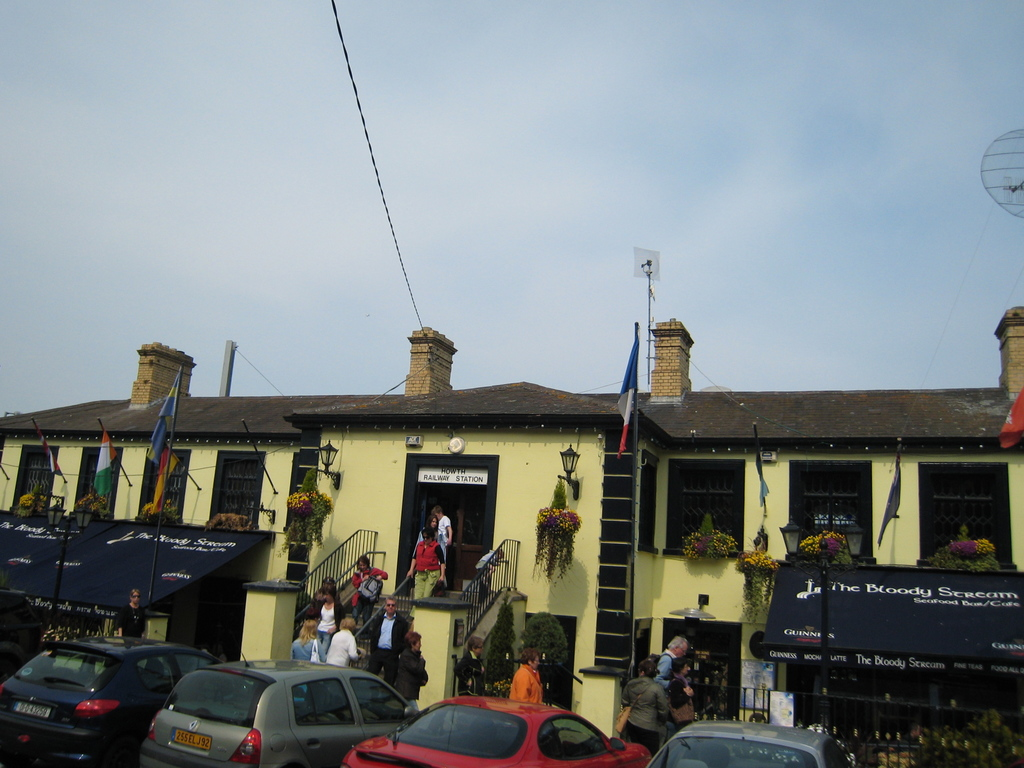mobil: (139, 654, 418, 765), (1, 641, 172, 765)
